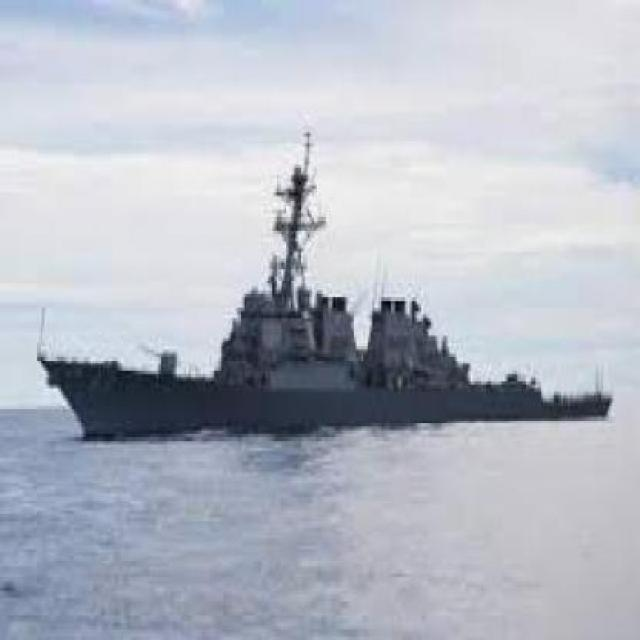warship2: (27, 78, 630, 459)
